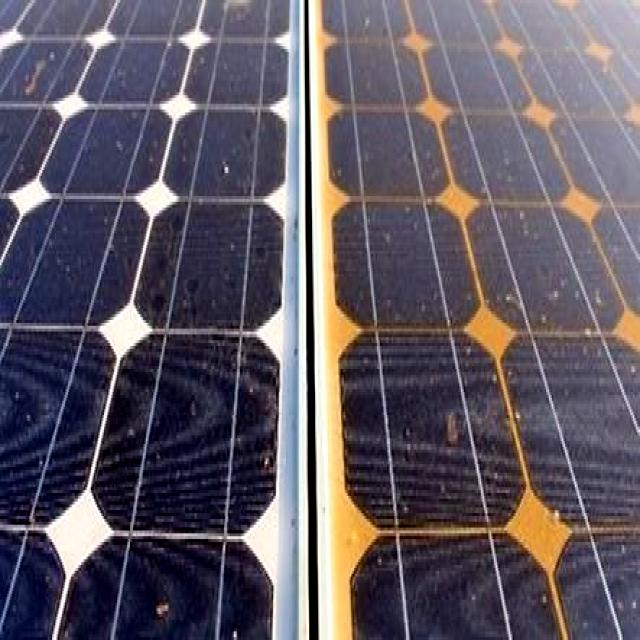shadow: (322, 214, 520, 532), (469, 0, 640, 202), (530, 215, 640, 520), (312, 0, 465, 205), (338, 537, 558, 640), (572, 537, 640, 640)
